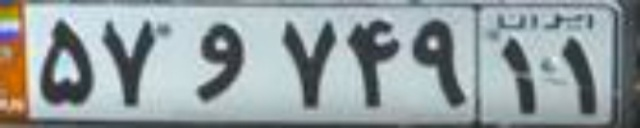1: (498, 37, 537, 114), (558, 35, 596, 114)
4: (345, 19, 403, 107)
5: (40, 21, 95, 106)
7: (279, 18, 337, 109), (100, 18, 158, 107)
9: (410, 18, 466, 108)
vav: (195, 21, 246, 104)
